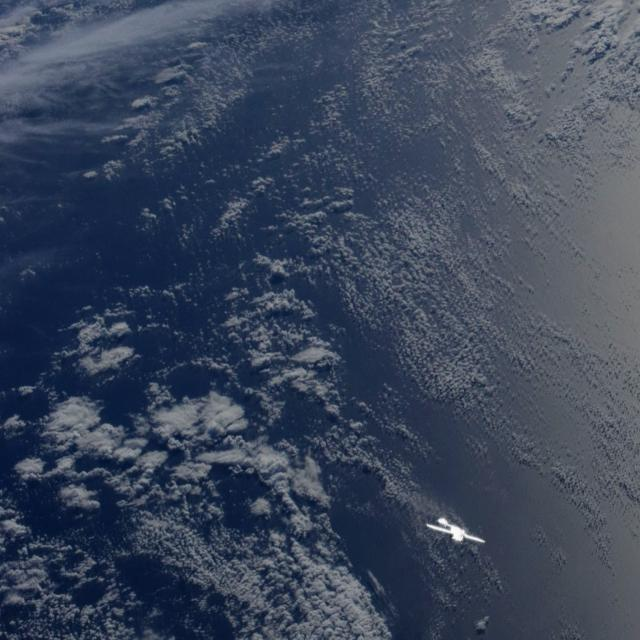satellite: (419, 509, 494, 562)
